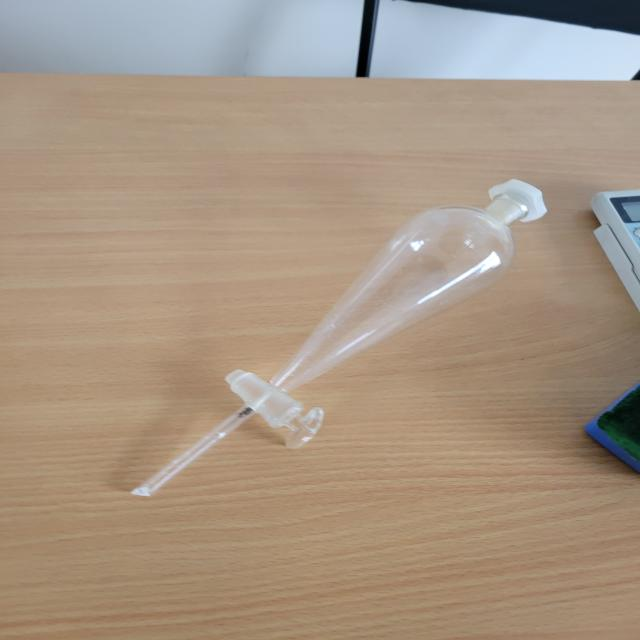Separating_Funnel: (87, 173, 565, 520)
